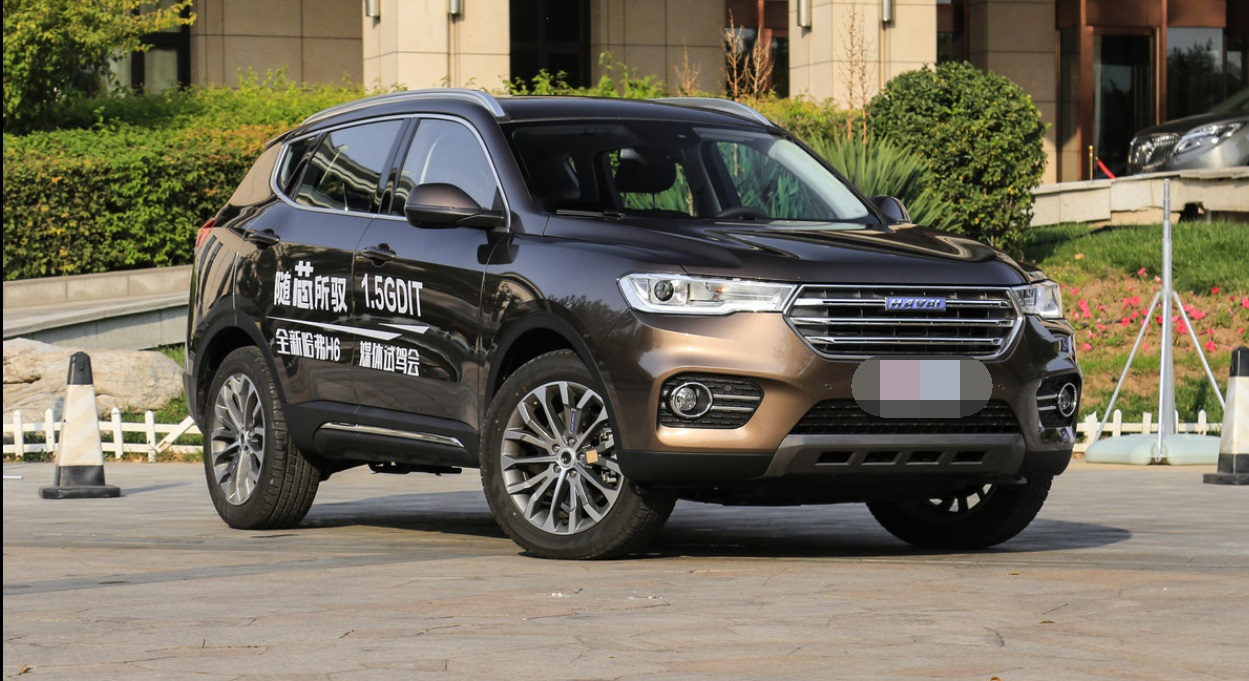SUV: (183, 88, 1086, 557)
